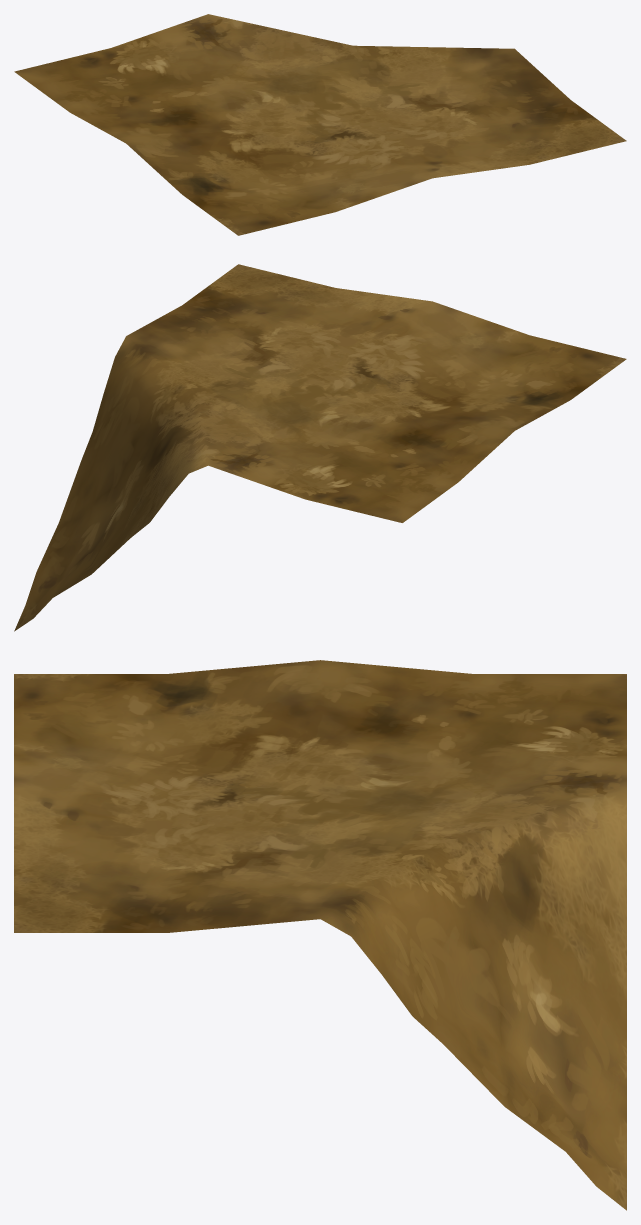
The model's file is Levelled_Slope_Incline_007.fbx.
3 renders of one model, top to bottom at view 1: azimuth 30°, elevation 25°; view 2: azimuth 150°, elevation 25°; view 3: azimuth 270°, elevation 25°, orthographic. The views are drawn at different scales.
Parts seen in each view (by area): view 1: Levelled_Slope_incline_007; view 2: Levelled_Slope_incline_007; view 3: Levelled_Slope_incline_007.
Boxes of the visible parts, x1,y1,x2,y2 form: Levelled_Slope_incline_007: (14,14,626,235); Levelled_Slope_incline_007: (14,264,626,631); Levelled_Slope_incline_007: (14,660,626,1210).
Size of the model in its own units: 10 by 5.25 by 10.
1 material, 1 textured.
